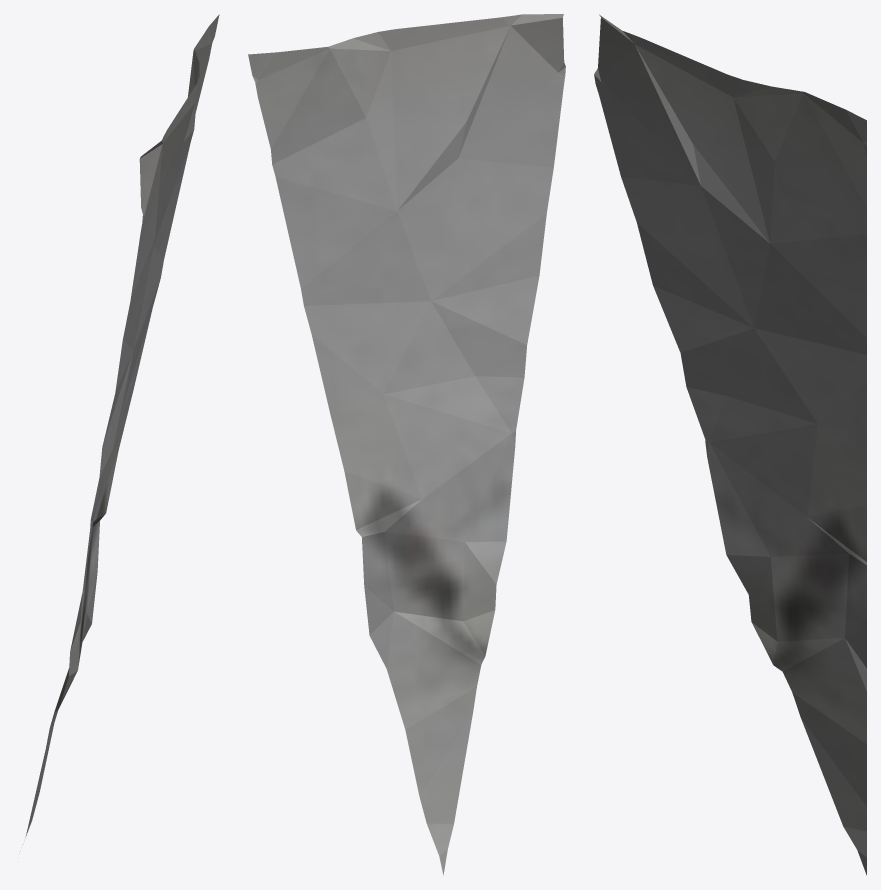
3 views of the same model, side by side, from view 1: azimuth 30°, elevation 25°; view 2: azimuth 150°, elevation 25°; view 3: azimuth 270°, elevation 25° (orthographic). The views are drawn at different scales.
Bounding box in the file's own units: 0.0891 × 0.3372 × 0.0967.
Materials: 1 (1 with a texture image).
